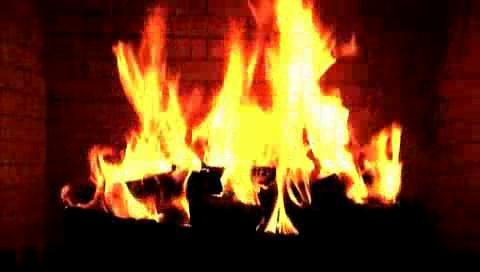fire: (83, 16, 367, 221)
